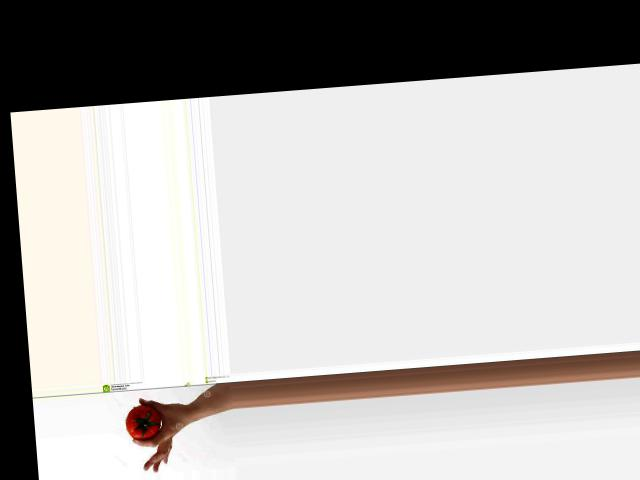tomato: (124, 403, 162, 441)
